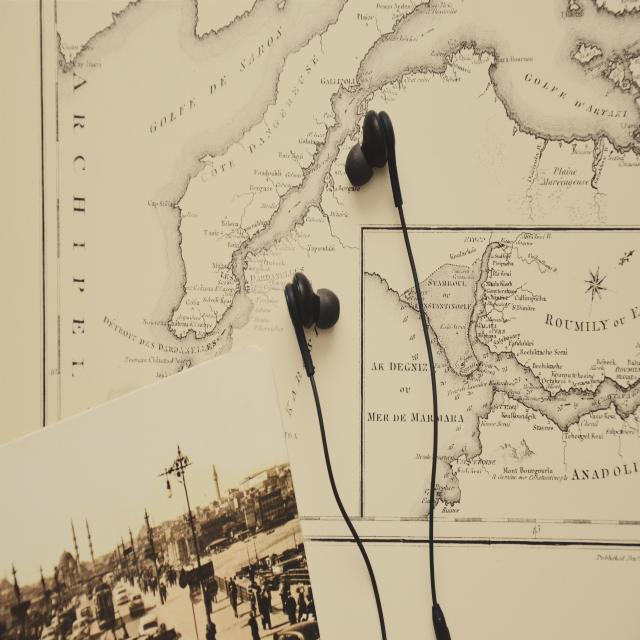Earphone: (285, 104, 453, 640)
